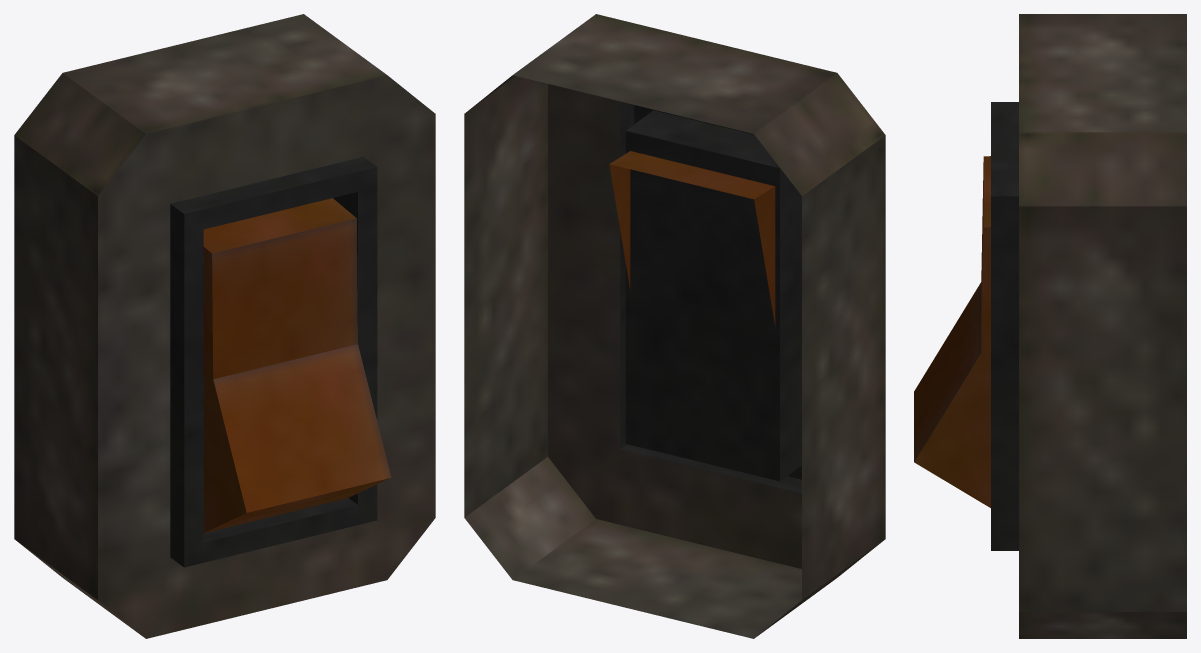
Rendered from button_etx_red_2.obj.
3 renders of one model, left to right at view 1: azimuth 30°, elevation 25°; view 2: azimuth 150°, elevation 25°; view 3: azimuth 270°, elevation 25°, orthographic.
Visible parts, largest first — view 1: button_etx_red_2, button_etx_red_2_child; view 2: button_etx_red_2, button_etx_red_2_child; view 3: button_etx_red_2, button_etx_red_2_child.
Boxes of the visible parts, <box> form: button_etx_red_2: <box>14,14,435,638</box>; button_etx_red_2_child: <box>203,198,391,532</box>; button_etx_red_2: <box>464,14,885,638</box>; button_etx_red_2_child: <box>609,151,775,326</box>; button_etx_red_2: <box>991,14,1186,638</box>; button_etx_red_2_child: <box>914,156,990,507</box>.
Bounding box in the file's own units: 0.126 × 0.18 × 0.0878.
